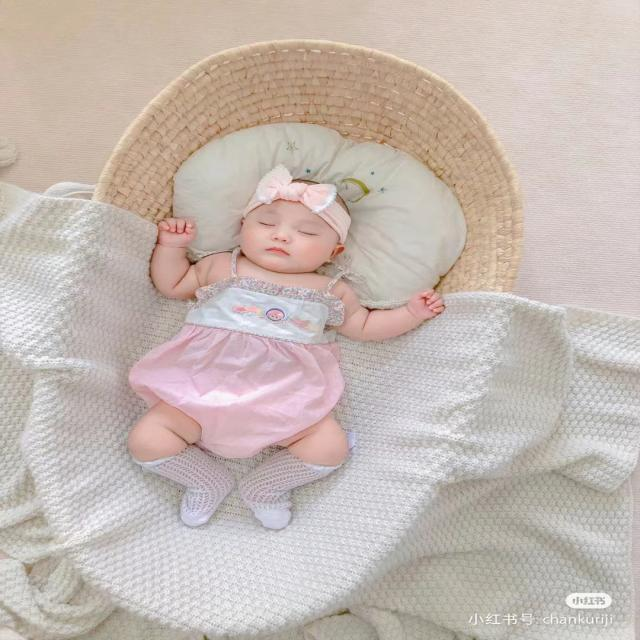baby: (128, 177, 446, 532)
